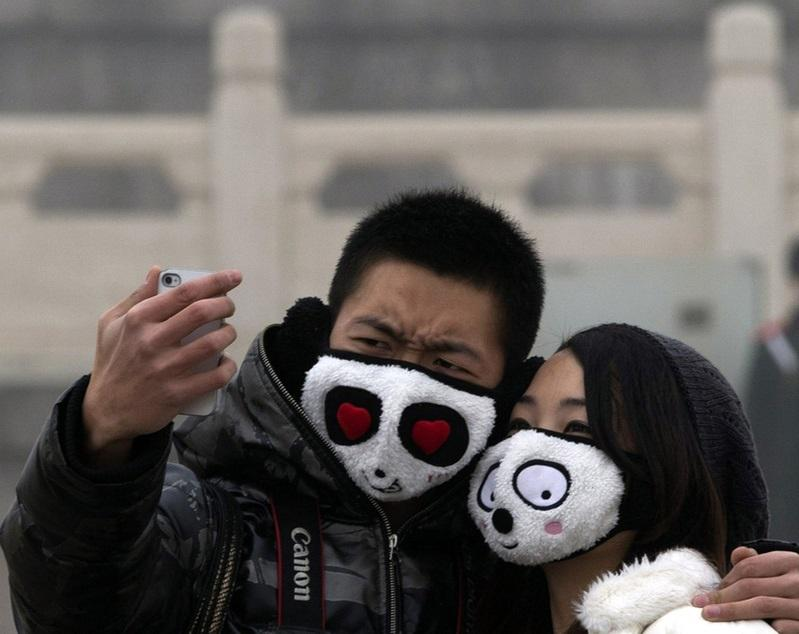OK: (475, 379, 666, 570), (313, 308, 498, 493)
